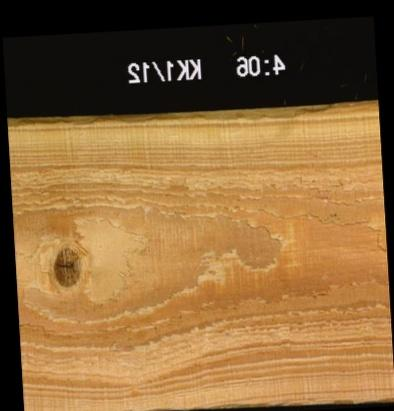sound_knot: (49, 244, 82, 288)
wave: (6, 102, 377, 125)
